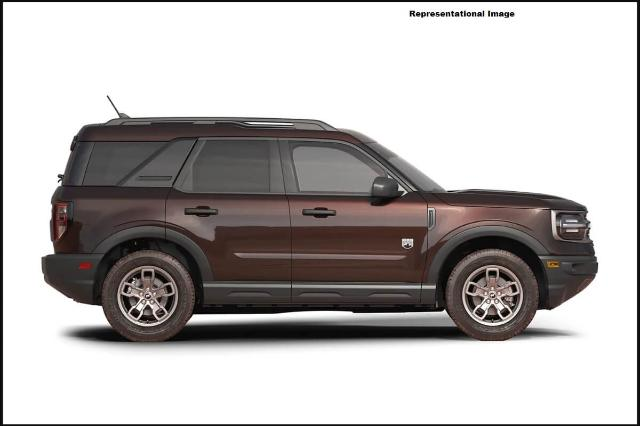ford: (41, 94, 598, 342)
